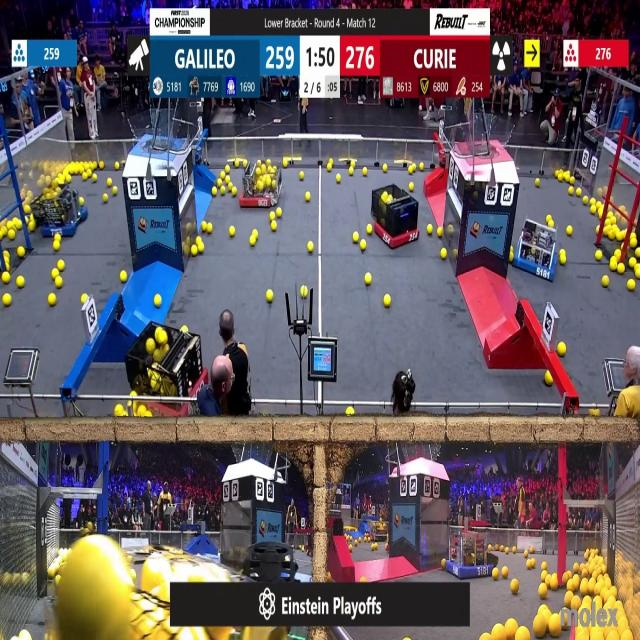ball_ground: (549, 619, 562, 639), (511, 580, 520, 596), (570, 596, 579, 609), (558, 343, 566, 357), (538, 586, 546, 600), (564, 594, 572, 608), (544, 373, 552, 386), (3, 294, 11, 306), (20, 632, 32, 640), (114, 406, 122, 418), (46, 566, 54, 578), (628, 280, 636, 291), (16, 247, 24, 258), (500, 567, 508, 578), (28, 220, 36, 231), (630, 237, 638, 248), (48, 293, 55, 305), (384, 294, 391, 306), (492, 568, 499, 580), (364, 274, 371, 286), (2, 274, 10, 284), (629, 257, 637, 267), (268, 289, 274, 302), (560, 251, 566, 264), (16, 277, 23, 288), (119, 272, 126, 283), (56, 277, 63, 288), (602, 276, 609, 287), (14, 219, 21, 230), (154, 294, 160, 306), (442, 248, 448, 260), (610, 260, 616, 272), (619, 265, 626, 275), (59, 262, 66, 272), (190, 246, 197, 256), (8, 231, 15, 241), (617, 232, 624, 242), (596, 250, 602, 261), (228, 225, 234, 236), (299, 286, 305, 297), (199, 242, 205, 253), (591, 411, 599, 419), (51, 270, 58, 279), (566, 225, 572, 235), (55, 242, 61, 252), (436, 228, 442, 238), (527, 560, 533, 570), (540, 571, 546, 581), (555, 170, 561, 180), (347, 410, 354, 418), (482, 633, 490, 640), (309, 242, 314, 253), (427, 223, 432, 234), (353, 233, 358, 244), (635, 268, 640, 279), (250, 238, 256, 247), (272, 221, 278, 230), (306, 191, 312, 200), (212, 186, 218, 195), (616, 249, 622, 258), (419, 162, 425, 171), (220, 186, 226, 195), (25, 206, 31, 215), (271, 211, 277, 220), (602, 226, 608, 235), (360, 241, 365, 251), (114, 163, 120, 171), (80, 294, 86, 302), (507, 254, 513, 262), (251, 230, 257, 238), (524, 551, 530, 559), (194, 237, 200, 245), (541, 562, 547, 570), (78, 198, 84, 206), (220, 172, 226, 180), (4, 265, 10, 273), (532, 560, 538, 568), (366, 224, 371, 233), (202, 221, 207, 230), (112, 186, 117, 195), (277, 208, 282, 217), (568, 186, 573, 195), (591, 206, 596, 215), (283, 160, 288, 169), (569, 175, 574, 184), (545, 214, 550, 223), (608, 232, 613, 241), (561, 173, 566, 182), (596, 225, 602, 232), (146, 412, 152, 419), (362, 168, 367, 176), (104, 192, 108, 202), (107, 178, 112, 186), (100, 162, 105, 170), (349, 168, 354, 176), (208, 222, 212, 232), (410, 182, 415, 190), (383, 165, 388, 173), (584, 198, 589, 206), (82, 173, 87, 181), (224, 176, 229, 184), (442, 560, 447, 568), (67, 175, 72, 183), (4, 250, 9, 258), (326, 165, 331, 173), (236, 160, 241, 168), (371, 542, 376, 550), (453, 248, 458, 256), (449, 224, 454, 232), (227, 183, 232, 191), (535, 178, 539, 187), (299, 172, 303, 181), (132, 391, 138, 397), (360, 575, 365, 582), (217, 180, 222, 187), (410, 167, 415, 174), (56, 235, 61, 242), (575, 188, 580, 195), (224, 167, 229, 174), (94, 174, 98, 182), (338, 175, 342, 183), (233, 187, 237, 195), (636, 248, 640, 256), (182, 325, 187, 331), (504, 546, 509, 552), (348, 544, 353, 550), (513, 546, 517, 552), (530, 546, 534, 552)
goal: (459, 118, 516, 158), (129, 115, 186, 152)
robot_blue: (36, 185, 88, 238), (444, 526, 496, 578), (514, 221, 558, 280), (366, 520, 390, 542)
robot_red: (128, 322, 205, 414), (371, 184, 419, 247), (241, 160, 280, 208), (434, 0, 488, 6)
